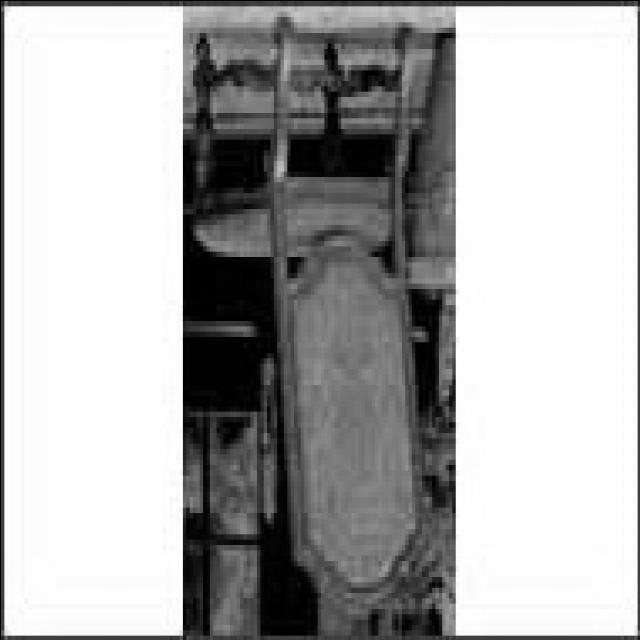chair: (192, 18, 432, 610)
